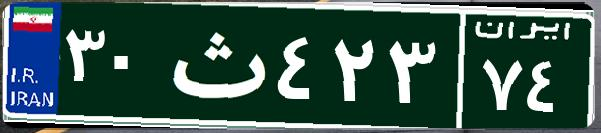0: (110, 28, 158, 105)
2: (330, 28, 385, 110)
3: (385, 28, 445, 110), (57, 26, 110, 107)
4: (273, 28, 330, 110), (525, 38, 570, 115)
7: (475, 38, 525, 113)
ث: (158, 15, 273, 115)
